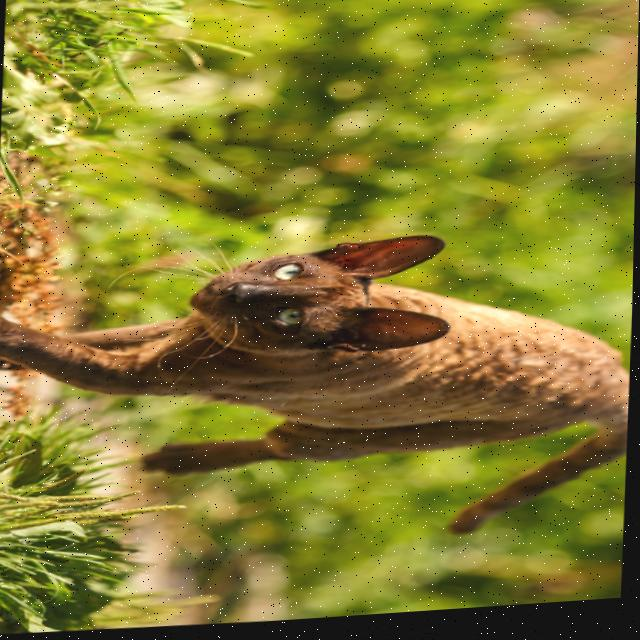Cornish Rex: (0, 217, 636, 572)
